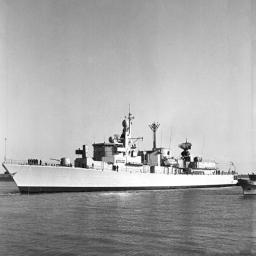Fragata: (2, 103, 242, 199)
